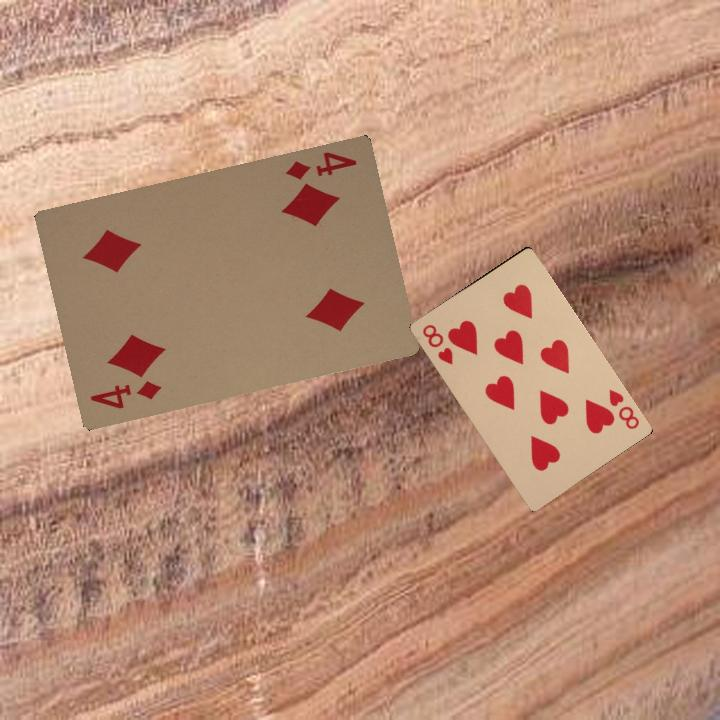4d: (282, 147, 360, 183), (86, 377, 164, 412)
8h: (418, 320, 456, 367), (605, 385, 642, 432)
